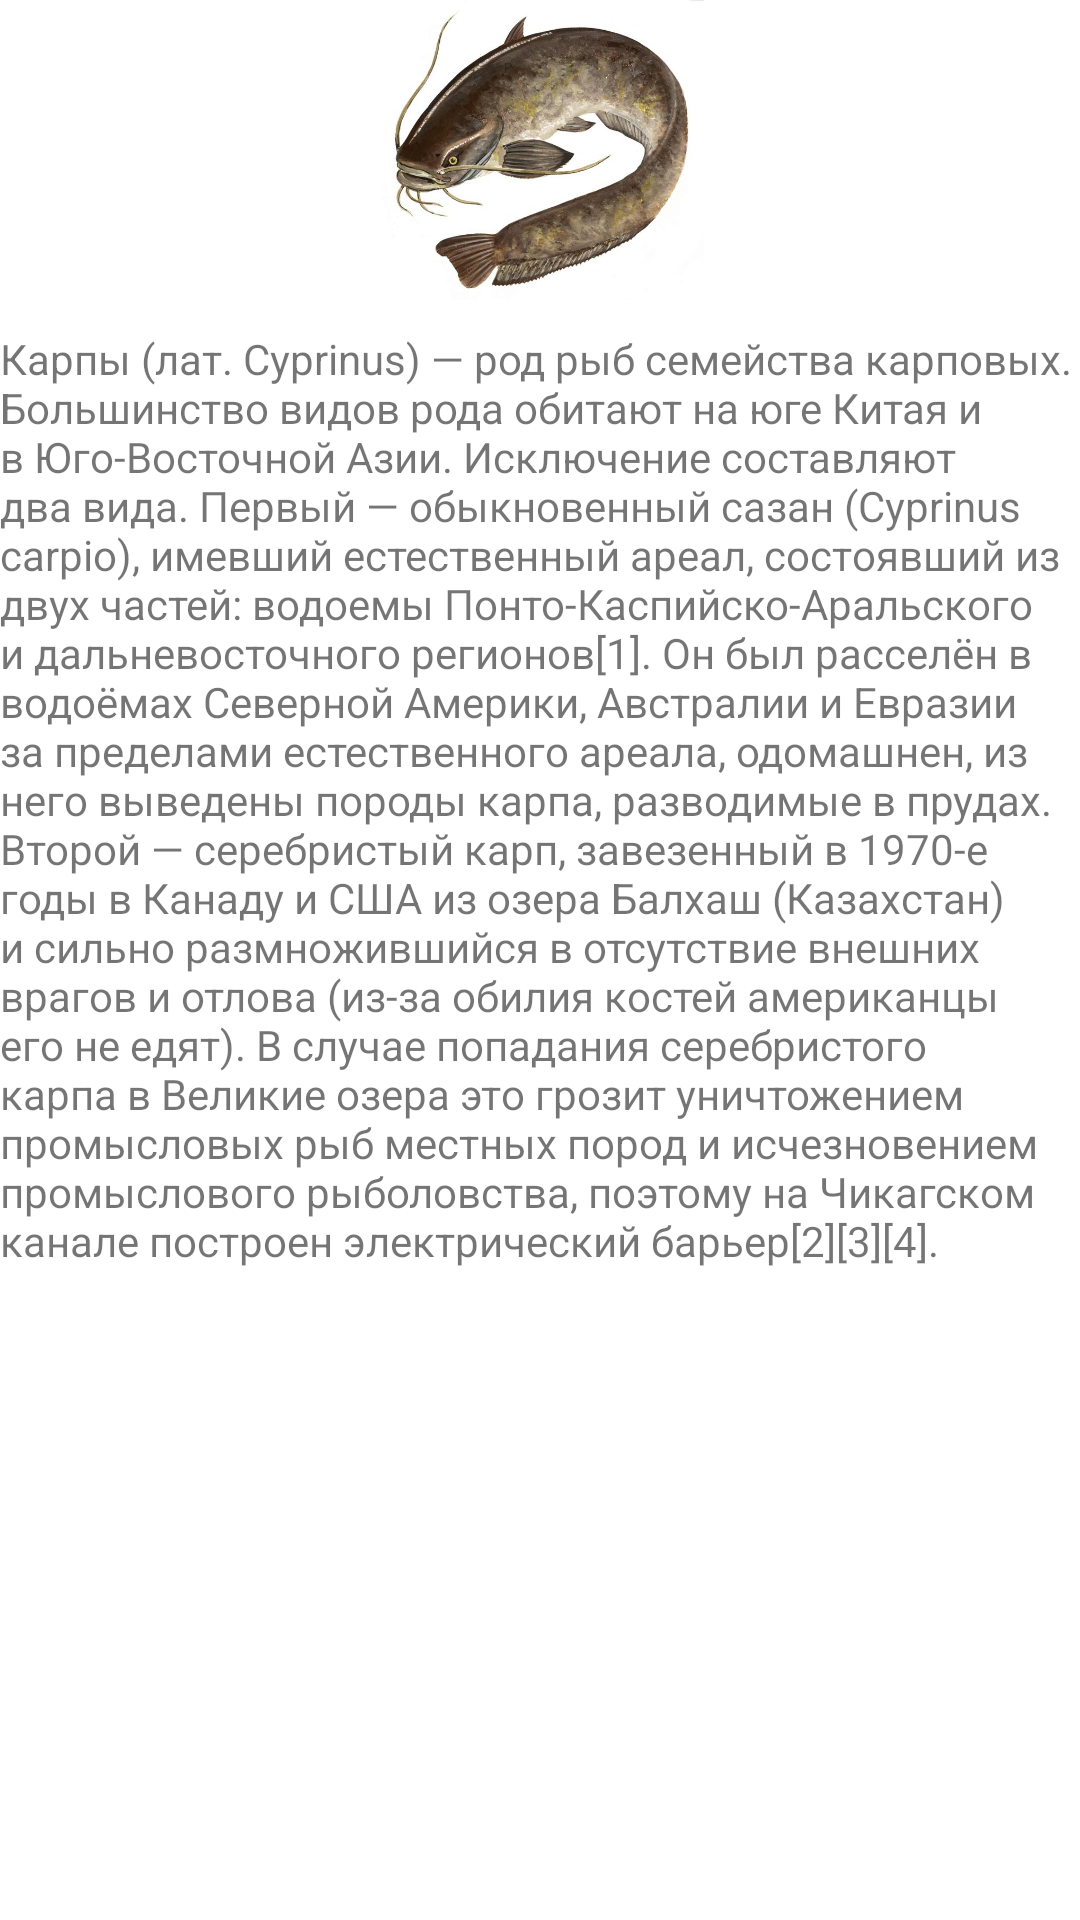

Icons on this 1080 x 1920 Android screen, each with the point to tap as point (x, y):
catfish: point (541, 151)
